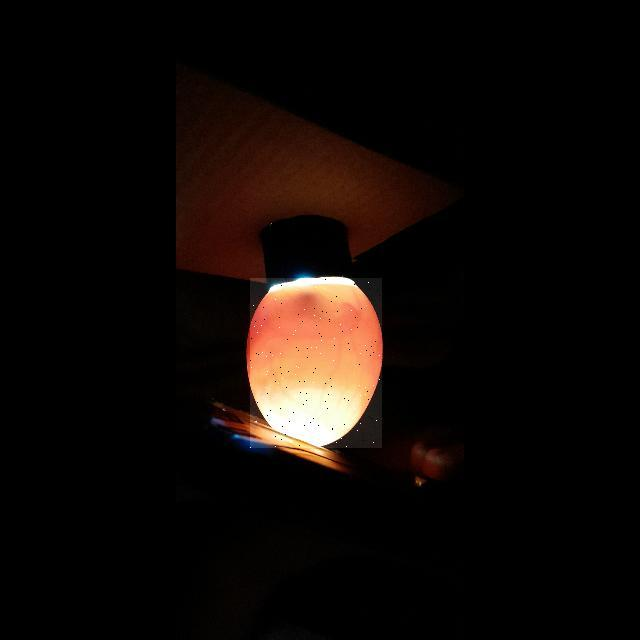Fertile: (250, 278, 382, 448)
